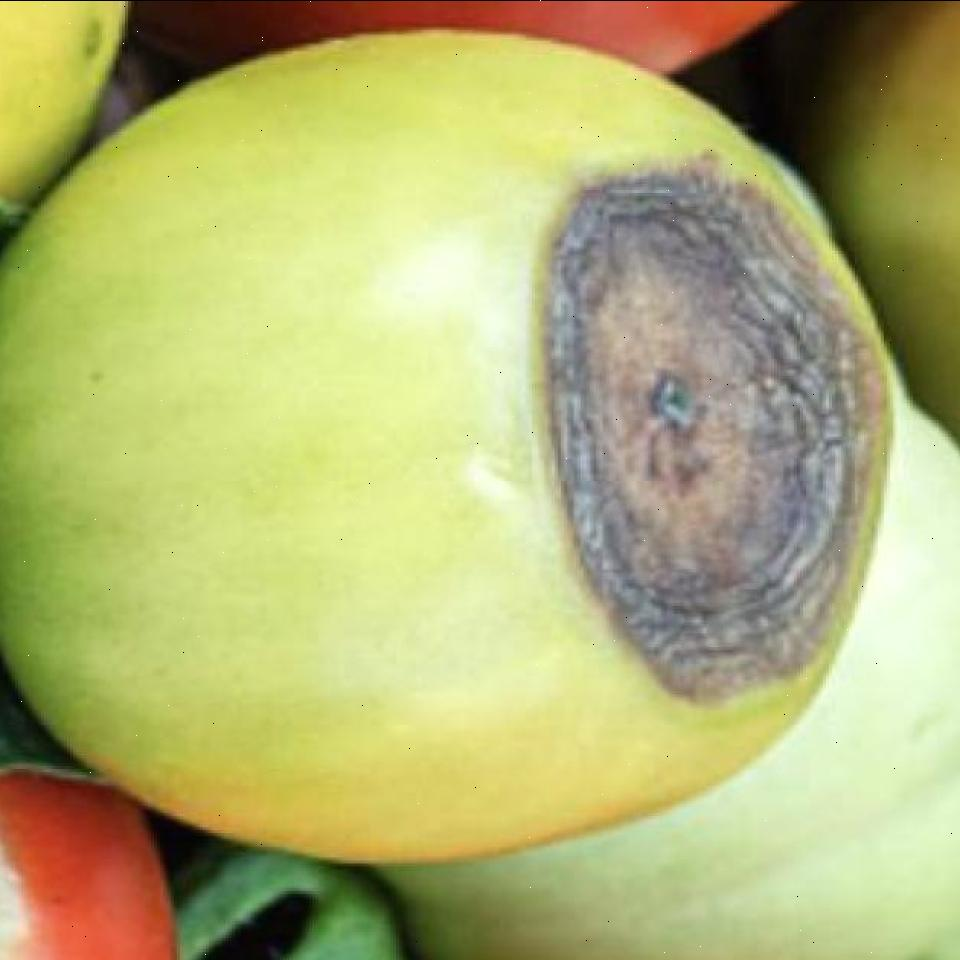Blossom_end_rot: (548, 158, 890, 710)
